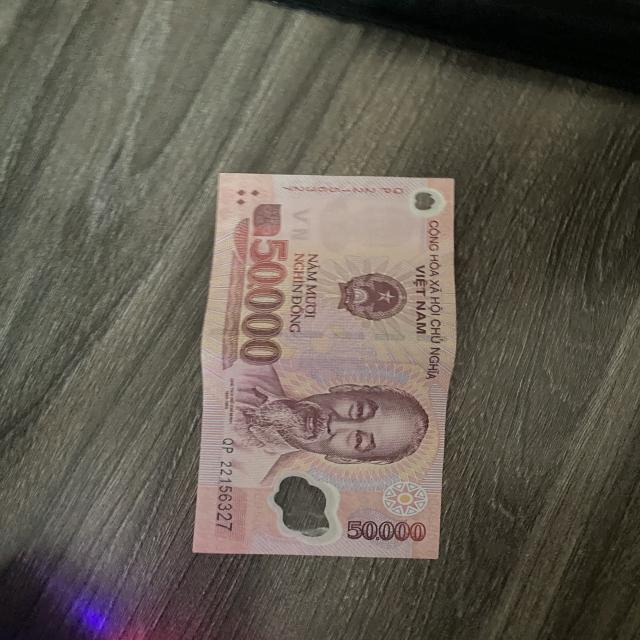50 000 VND: (184, 161, 465, 572)
